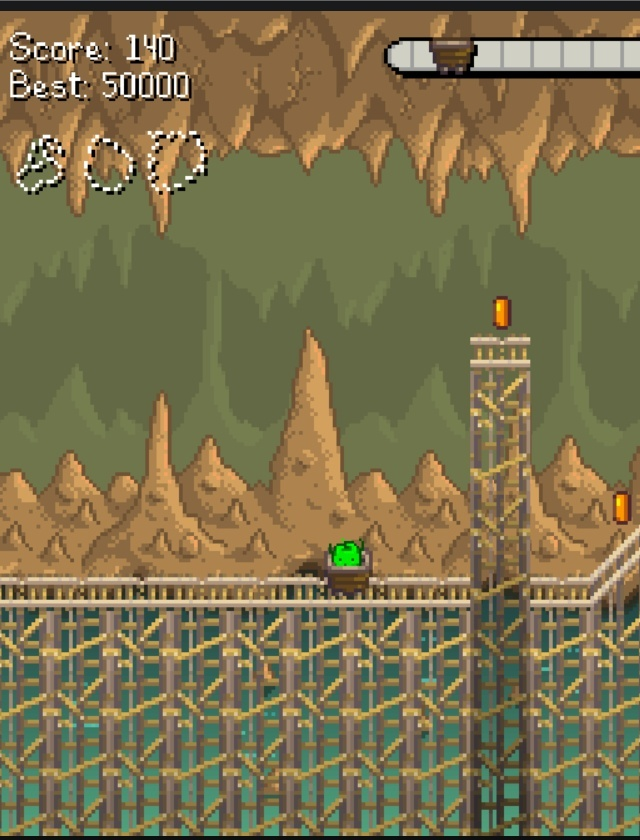coins: (493, 296, 511, 329), (614, 490, 630, 524)
minecart: (325, 539, 371, 594)
score: (122, 26, 178, 66)
tracks: (0, 564, 312, 614), (533, 526, 639, 607), (468, 331, 534, 371)
